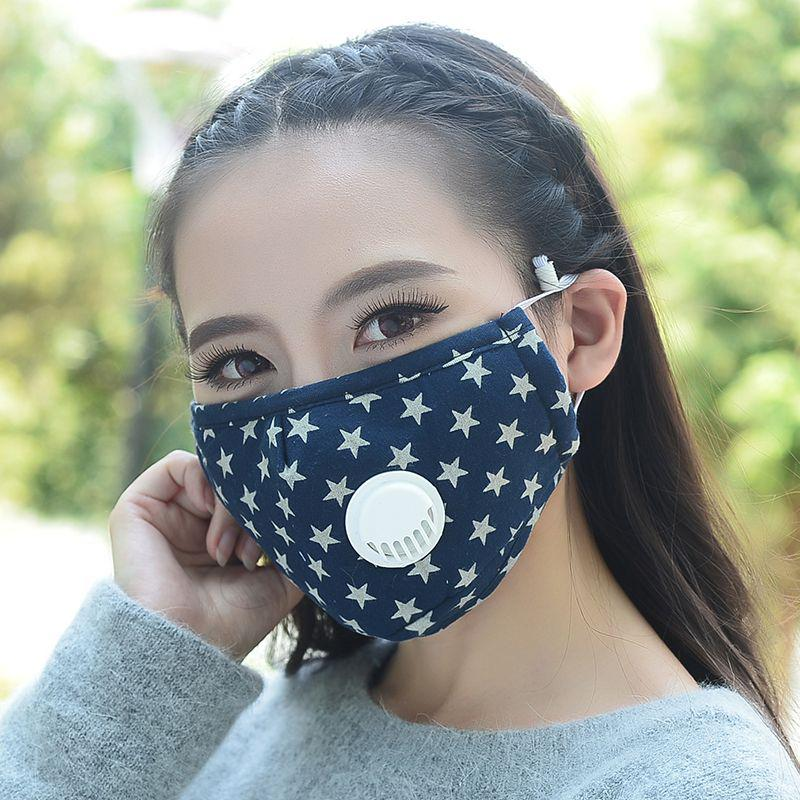OK: (181, 245, 570, 634)
